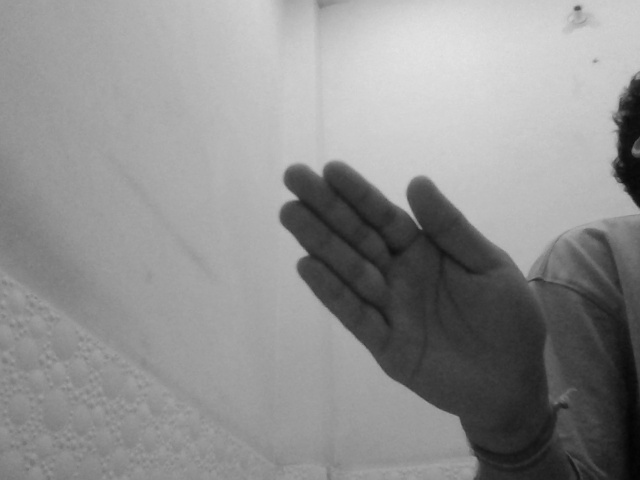Hello: (276, 160, 550, 437)
